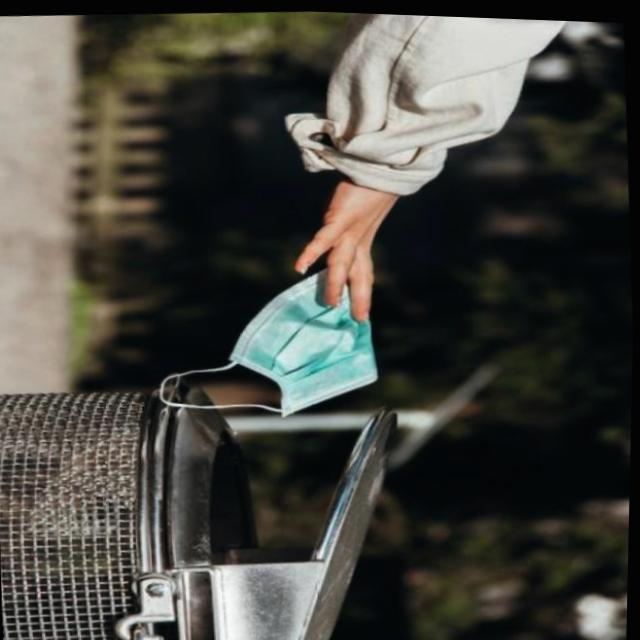Mask: (145, 253, 382, 426)
